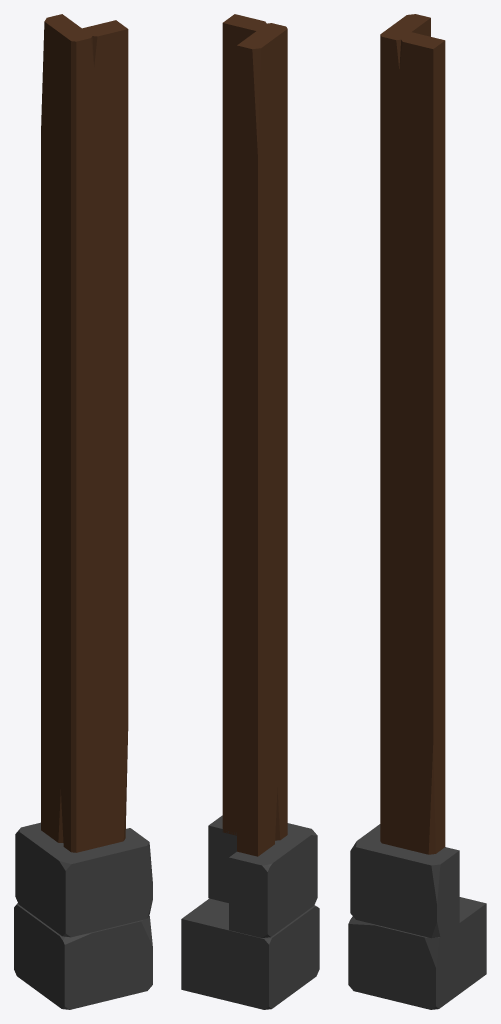
File: Corner_02.glb
3 renders of one model, left to right at view 1: azimuth 30°, elevation 25°; view 2: azimuth 150°, elevation 25°; view 3: azimuth 330°, elevation 25°, orthographic.
Visible parts, largest first — view 1: Corner_02_LOD0; view 2: Corner_02_LOD0; view 3: Corner_02_LOD0.
Part boxes in pixels (left/top/right/bottom): Corner_02_LOD0: left=14, top=14, right=152, bottom=1009; Corner_02_LOD0: left=181, top=14, right=319, bottom=1009; Corner_02_LOD0: left=348, top=14, right=486, bottom=1009.
Size of what is drawn, in the model's own units: 0.6503 by 6.7 by 0.6451.
Materials: 1 (1 with a texture image).
